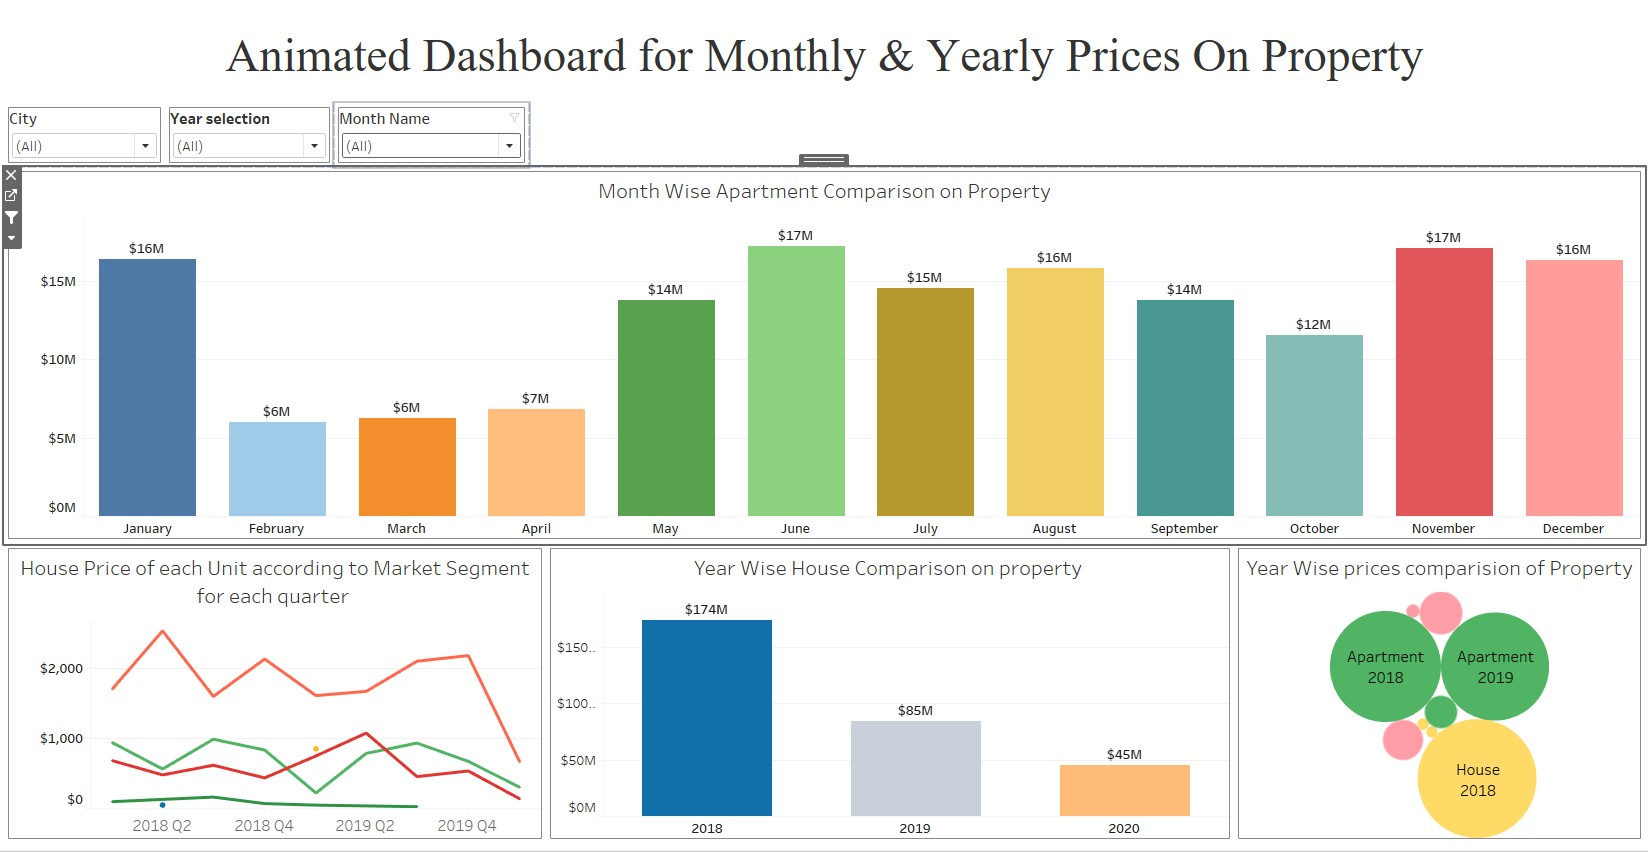

Layout of this report page (visuals, bound fields, positions):
{"tool":"tableau","page":{"name":"Dashboard 1","canvas":[1000,1000],"units":"permille","ordinal":0},"visuals":[{"type":"title","box":[4.8,9.4,990.3,111.6]},{"type":"filter","title":"Month Wise Apartment Comparison on Property","param":"[federated.128g6iy0py8awp1bxlqoz1xw7d81].[none:City:nk]","box":[4.8,121,97.2,75.4]},{"type":"filter","title":"Year Wise House Comparison on property ","param":"[federated.128g6iy0py8awp1bxlqoz1xw7d81].[yr:Date (Real Estate Florida):ok]","box":[102,121,102,75.4]},{"type":"filter","title":"Year Wise prices comparision of Property","param":"[federated.128g6iy0py8awp1bxlqoz1xw7d81].[mn:Date:ok]","box":[204,121,117.7,75.4]},{"type":"worksheet","title":"Month Wise Apartment Comparison on Property","mark":"Bar","rows":["Price"],"cols":["Date"],"box":[4.8,196.5,990.3,442.2]},{"type":"worksheet","title":"House Price of each Unit according to Market Segment for each quarter ","mark":"Automatic","rows":["house price of unit area"],"cols":["Date"],"box":[4.8,638.7,327.1,351.9]},{"type":"worksheet","title":"Year Wise House Comparison on property ","mark":"Bar","rows":["Price"],"cols":["Date (Real Estate Florida)"],"box":[331.9,638.7,415.4,351.9]},{"type":"worksheet","title":"Year Wise prices comparision of Property","mark":"Circle","box":[747.4,638.7,247.8,351.9]}]}

Visuals, with their boxes on the dashboard's canvas, which has no fixed pixel size, in thousandths of its width and height (x1, y1, x2, y2). These are canvas units, not pixel positions in the 1648x852 screenshot, which may show the page scaled, cropped or inside an application window:
title: <box>5,9,995,121</box>
"Month Wise Apartment Comparison on Property" filter: <box>5,121,102,196</box>
"Year Wise House Comparison on property " filter: <box>102,121,204,196</box>
"Year Wise prices comparision of Property" filter: <box>204,121,322,196</box>
"Month Wise Apartment Comparison on Property" worksheet (Bar marks): <box>5,196,995,639</box>
"House Price of each Unit according to Market Segment for each quarter " worksheet: <box>5,639,332,991</box>
"Year Wise House Comparison on property " worksheet (Bar marks): <box>332,639,747,991</box>
"Year Wise prices comparision of Property" worksheet (Circle marks): <box>747,639,995,991</box>
